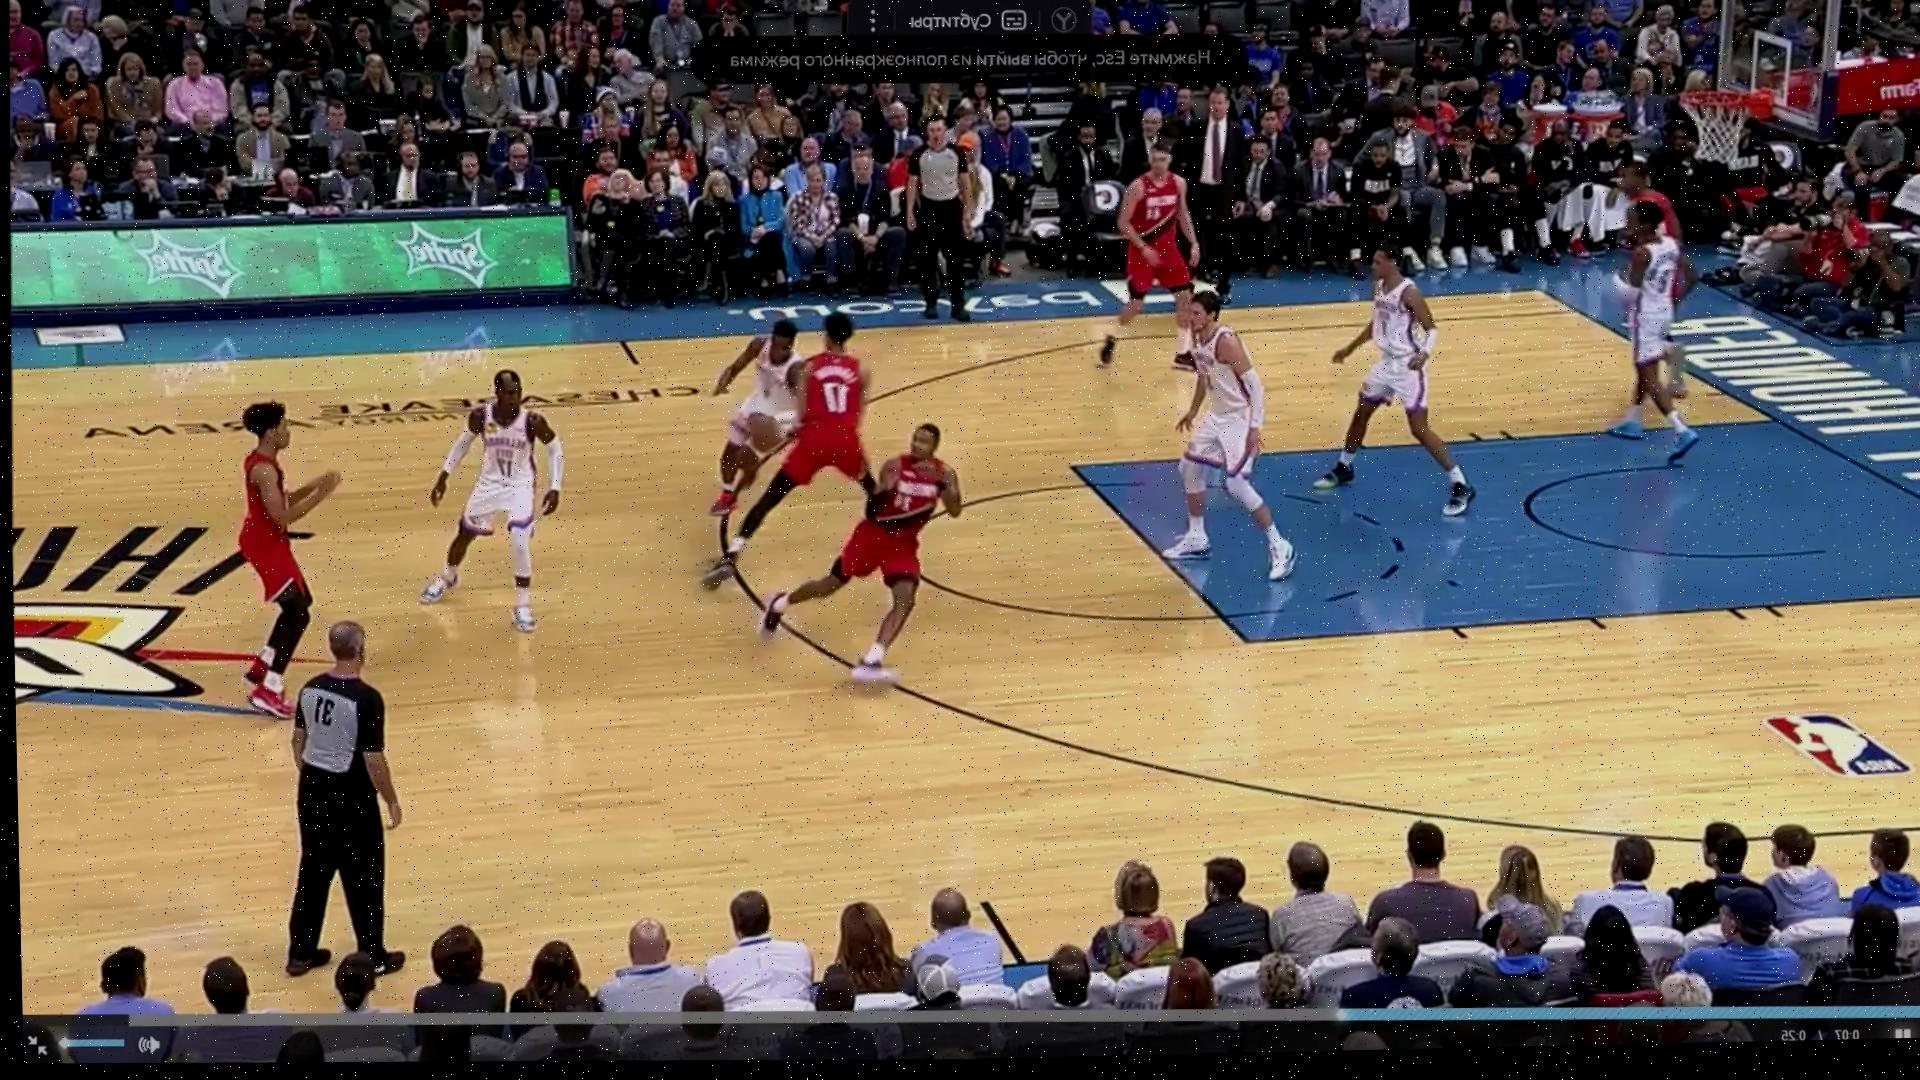no_foul: (658, 297, 903, 579)
